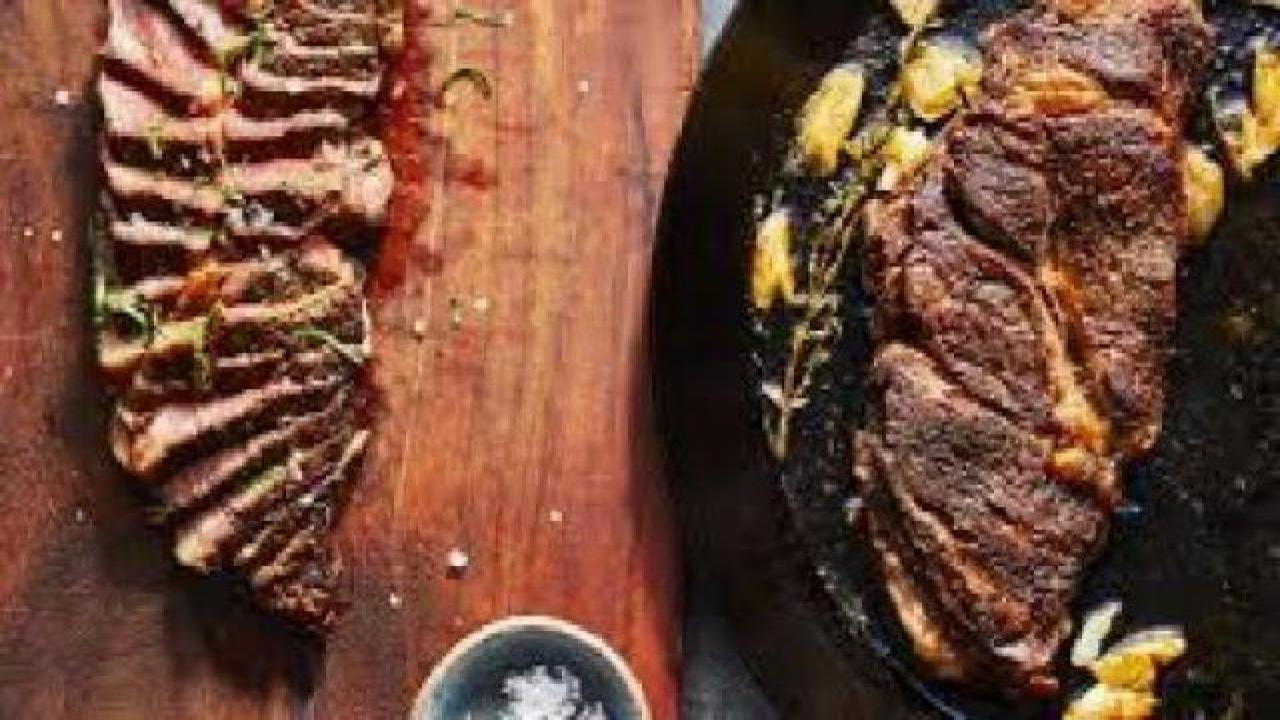Carne: (804, 13, 1189, 680), (109, 12, 394, 661)
